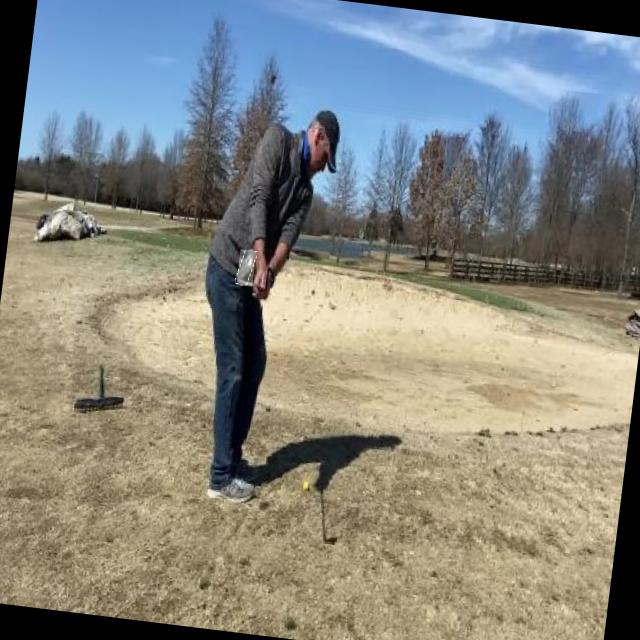club head: (236, 248, 256, 286)
